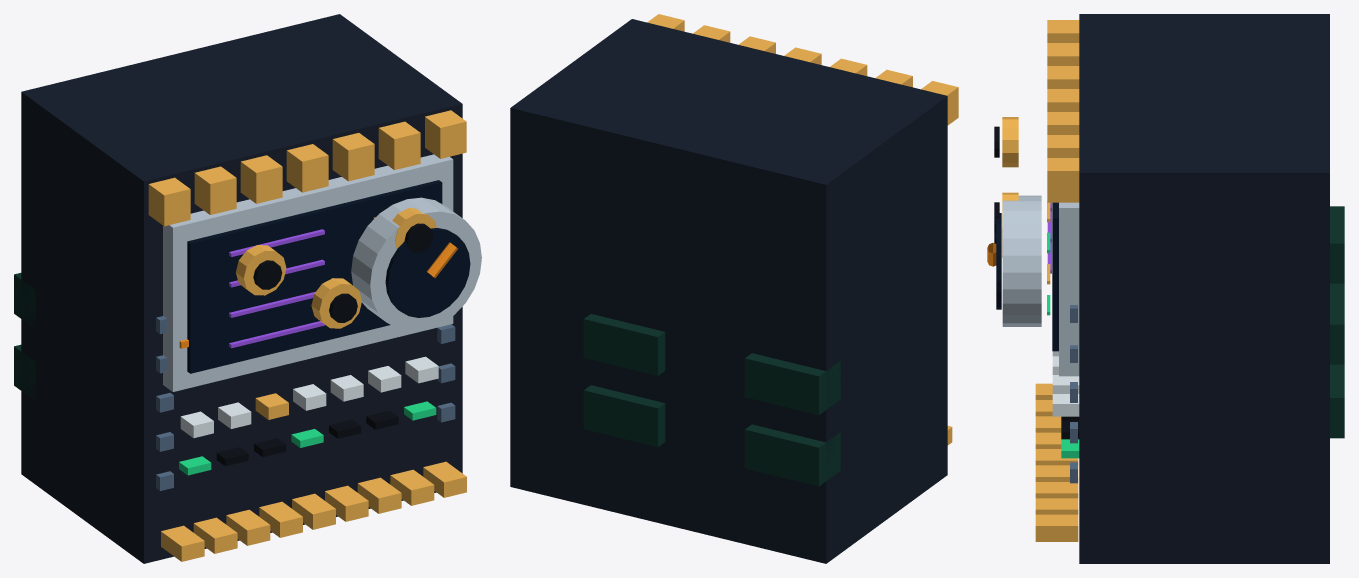
The model's file is 44_L91_ClockComparisonMonitor.fbx.
The picture shows the model from 3 angles, left to right: view 1: azimuth 30°, elevation 25°; view 2: azimuth 150°, elevation 25°; view 3: azimuth 270°, elevation 25°; orthographic projection. The views are drawn at different scales.
Parts seen in each view (by area): view 1: L91_ClockComparisonMonitor, L91_ClockComparisonMonitor_Part_0013, L91_ClockComparisonMonitor_Part_0015, L91_ClockComparisonMonitor_Part_0017, L91_ClockComparisonMonitor_Part_0016, L91_ClockComparisonMonitor_Part_0014, L91_ClockComparisonMonitor_Part_0018; view 2: L91_ClockComparisonMonitor; view 3: L91_ClockComparisonMonitor, L91_ClockComparisonMonitor_Part_0013.
Part boxes in pixels (x1=…): L91_ClockComparisonMonitor: x1=14, y1=14, x2=481, y2=563; L91_ClockComparisonMonitor_Part_0013: x1=236, y1=245, x2=286, y2=295; L91_ClockComparisonMonitor_Part_0015: x1=311, y1=278, x2=361, y2=328; L91_ClockComparisonMonitor_Part_0017: x1=392, y1=208, x2=436, y2=248; L91_ClockComparisonMonitor_Part_0016: x1=329, y1=293, x2=357, y2=322; L91_ClockComparisonMonitor_Part_0014: x1=253, y1=260, x2=282, y2=289; L91_ClockComparisonMonitor_Part_0018: x1=404, y1=223, x2=433, y2=252; L91_ClockComparisonMonitor: x1=510, y1=14, x2=958, y2=563; L91_ClockComparisonMonitor: x1=996, y1=14, x2=1344, y2=563; L91_ClockComparisonMonitor_Part_0013: x1=1002, y1=117, x2=1018, y2=167.
Size of the model in its own units: 96.9 by 111 by 92.1.
